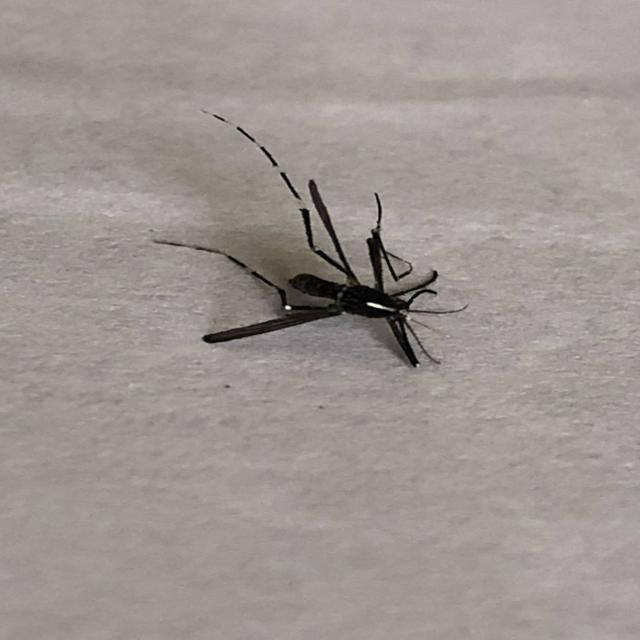albopictus: (143, 105, 468, 371)
